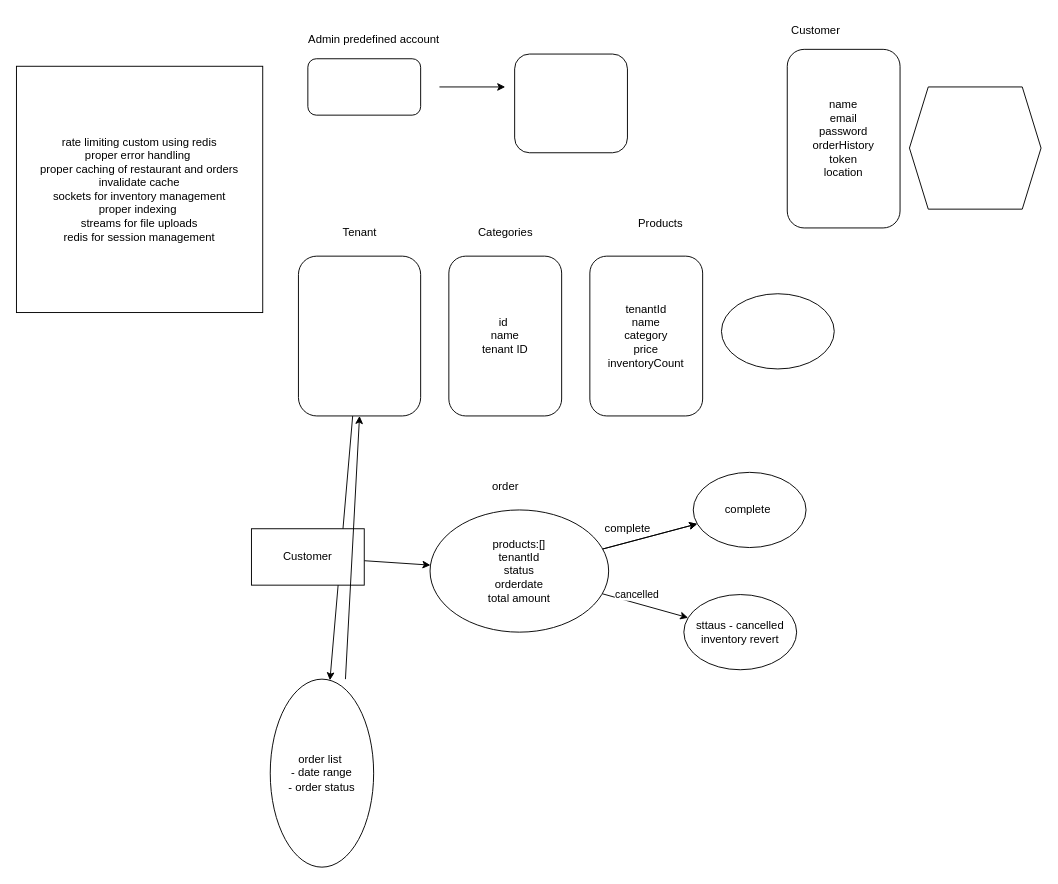
Some shapes in this 1058 by 884 pixel diagram are drawn without their labels. Each missing label, with the centre of its shape:
"add tenants name email password location" belongs at point 570,103.
"email password" belongs at point 364,86.
"id name email password location" belongs at point 359,335.
"signup login edit profile see order history see products" belongs at point 975,147.
"update inventory on tenant portal" belongs at point 777,331.
